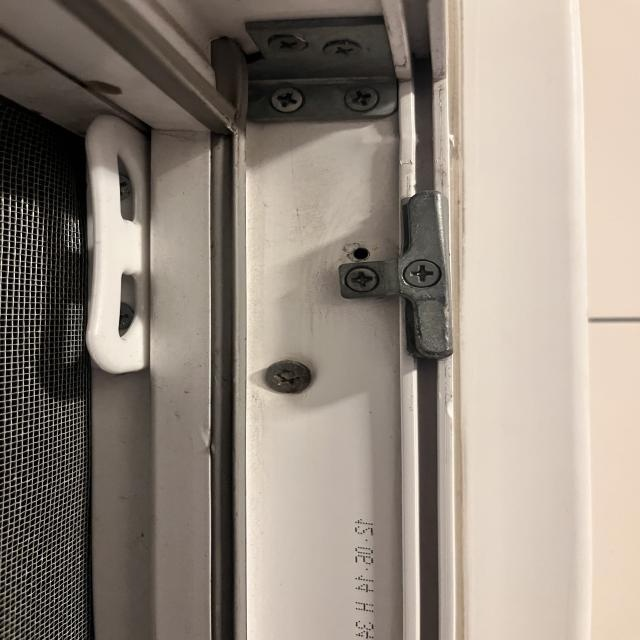phillips: (402, 259, 442, 289), (344, 267, 380, 292), (271, 86, 304, 113), (344, 85, 378, 111), (322, 39, 362, 60), (268, 35, 307, 53)
torx: (265, 361, 311, 394)
